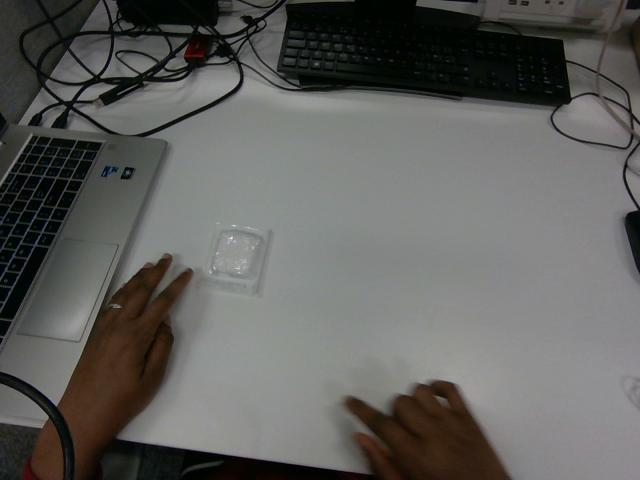gauze: (202, 224, 269, 294)
